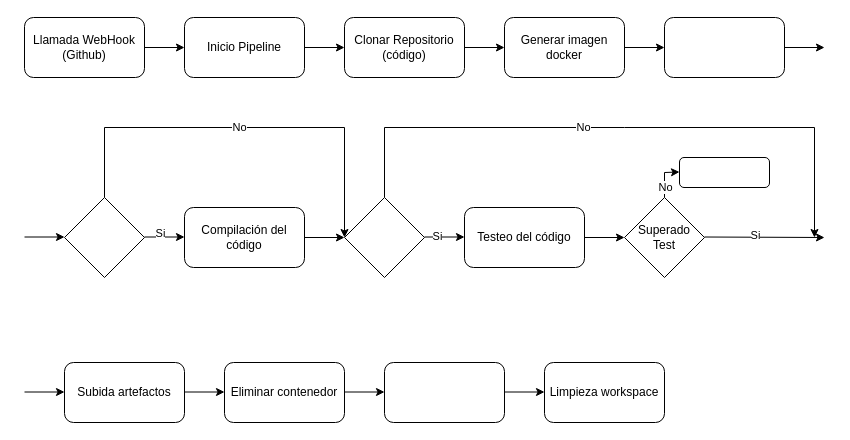
This 850x440 diagram has some shape labels left out. Here are the shapes that lost their labels. From the top down, the box of each, then its label:
(664, 16, 784, 78): Generar contenedor docker
(678, 156, 770, 188): Fallo Email
(64, 196, 144, 278): Activada Compilación
(344, 196, 424, 278): Activado Test
(384, 362, 504, 422): Eliminar Imagen
